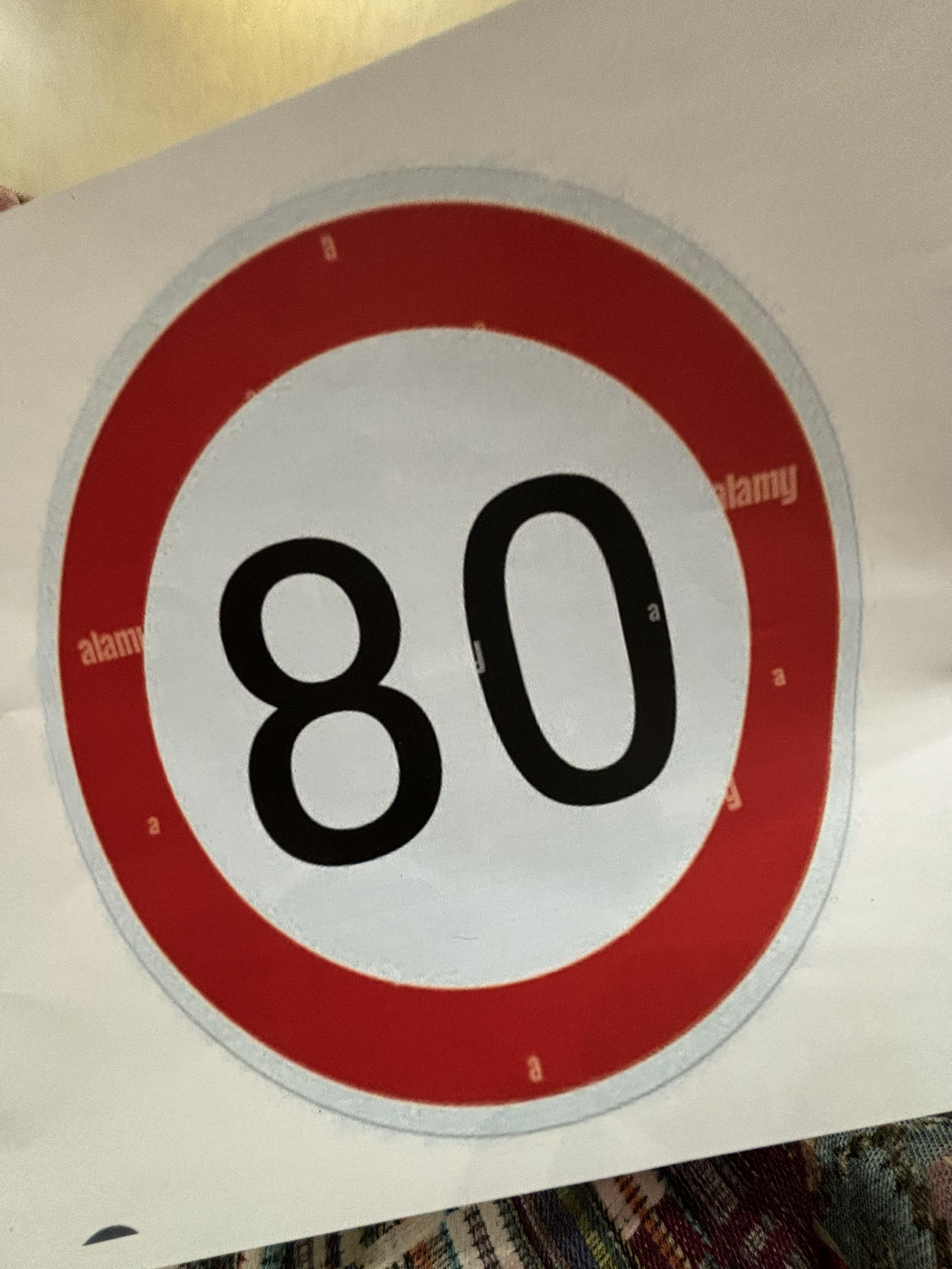80-Speed: (29, 167, 863, 1135)
